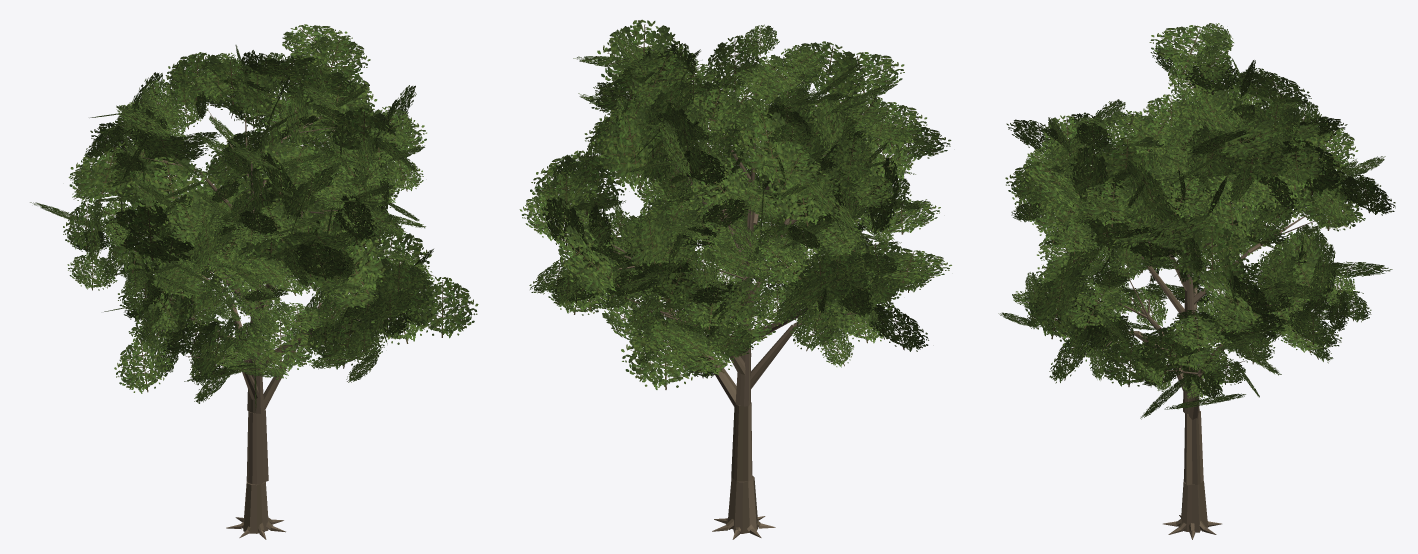
Rendered from rear-compact-broadleaf-v1.glb.
3 renders of one model, left to right at view 1: azimuth 30°, elevation 25°; view 2: azimuth 150°, elevation 25°; view 3: azimuth 270°, elevation 25°, orthographic. The views are drawn at different scales.
Visible parts, largest first — view 1: 成组分布的立体叶冠.001, 主干、根颈和分叉树枝.001; view 2: 成组分布的立体叶冠.001, 主干、根颈和分叉树枝.001; view 3: 成组分布的立体叶冠.001, 主干、根颈和分叉树枝.001.
Part boxes in pixels (box(x1,y1,x2,y2)): 成组分布的立体叶冠.001: box(30, 24, 478, 410); 主干、根颈和分叉树枝.001: box(102, 107, 385, 539); 成组分布的立体叶冠.001: box(519, 19, 951, 389); 主干、根颈和分叉树枝.001: box(611, 85, 858, 539); 成组分布的立体叶冠.001: box(998, 23, 1395, 419); 主干、根颈和分叉树枝.001: box(1089, 88, 1327, 539).
Bounding box in the file's own units: 7.3 × 8.72 × 7.27.
5 materials, 1 textured.
